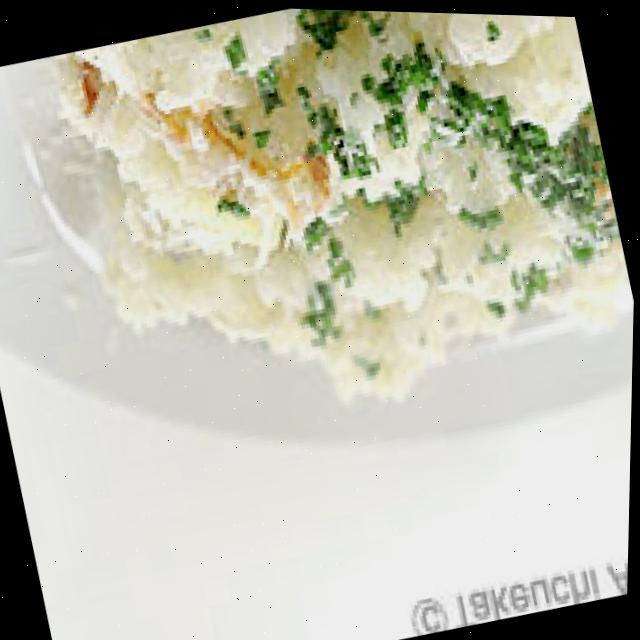米饭主食: (0, 0, 640, 553)
